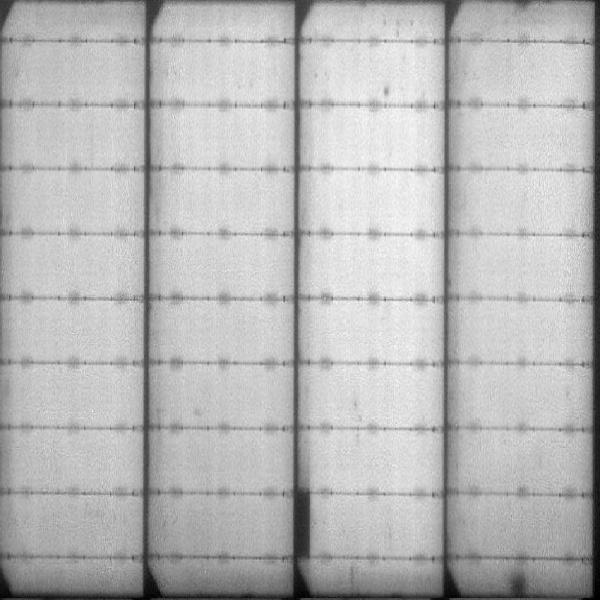black_border: (288, 475, 314, 559)
